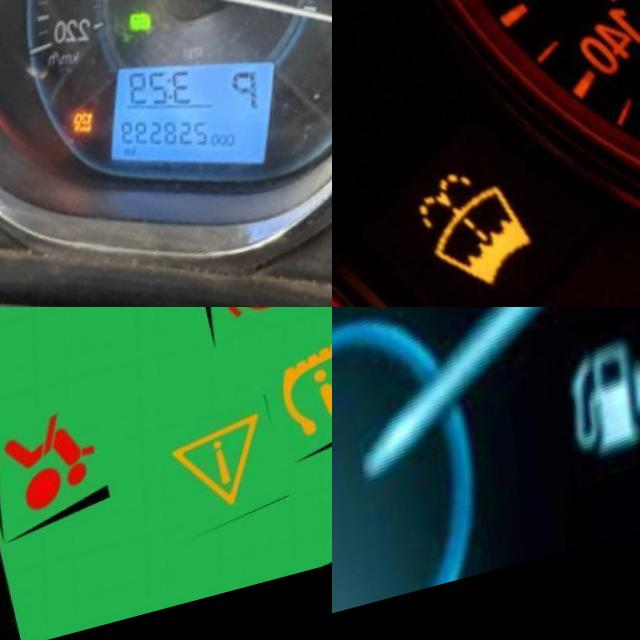Washer Fluid: (413, 174, 526, 307)
